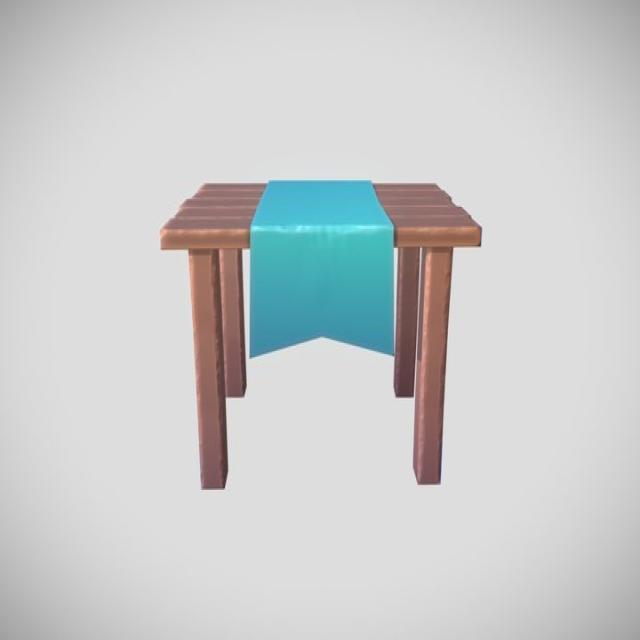table: (159, 180, 485, 492)
